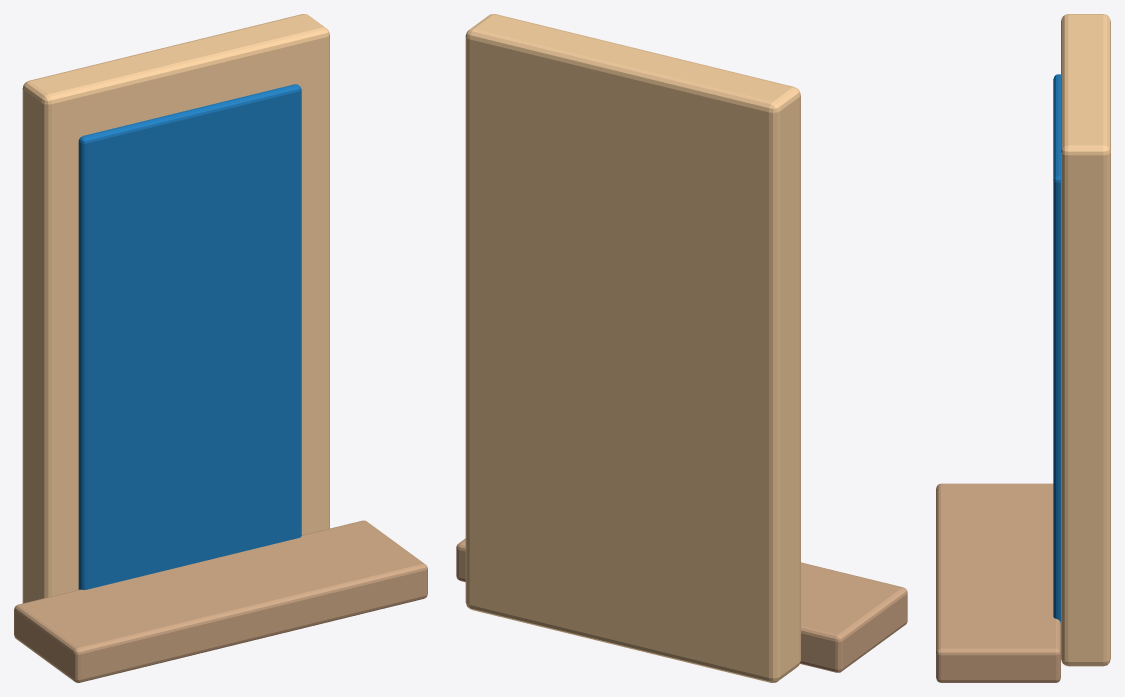
Rendered from door.glb.
3 renders of one model, left to right at view 1: azimuth 30°, elevation 25°; view 2: azimuth 150°, elevation 25°; view 3: azimuth 270°, elevation 25°, orthographic. The views are drawn at different scales.
Visible parts, largest first — view 1: door_leaf, door, door_step; view 2: door, door_step; view 3: door, door_step, door_leaf.
Boxes of the visible parts, bbox=[...] form: door_leaf: bbox=[78, 84, 301, 589]; door: bbox=[22, 14, 329, 603]; door_step: bbox=[14, 520, 427, 682]; door: bbox=[465, 14, 800, 682]; door_step: bbox=[456, 538, 907, 672]; door: bbox=[1061, 14, 1110, 666]; door_step: bbox=[936, 483, 1060, 682]; door_leaf: bbox=[1053, 74, 1060, 622].
Bounding box in the file's own units: 1.6 × 2.3 × 0.7.
